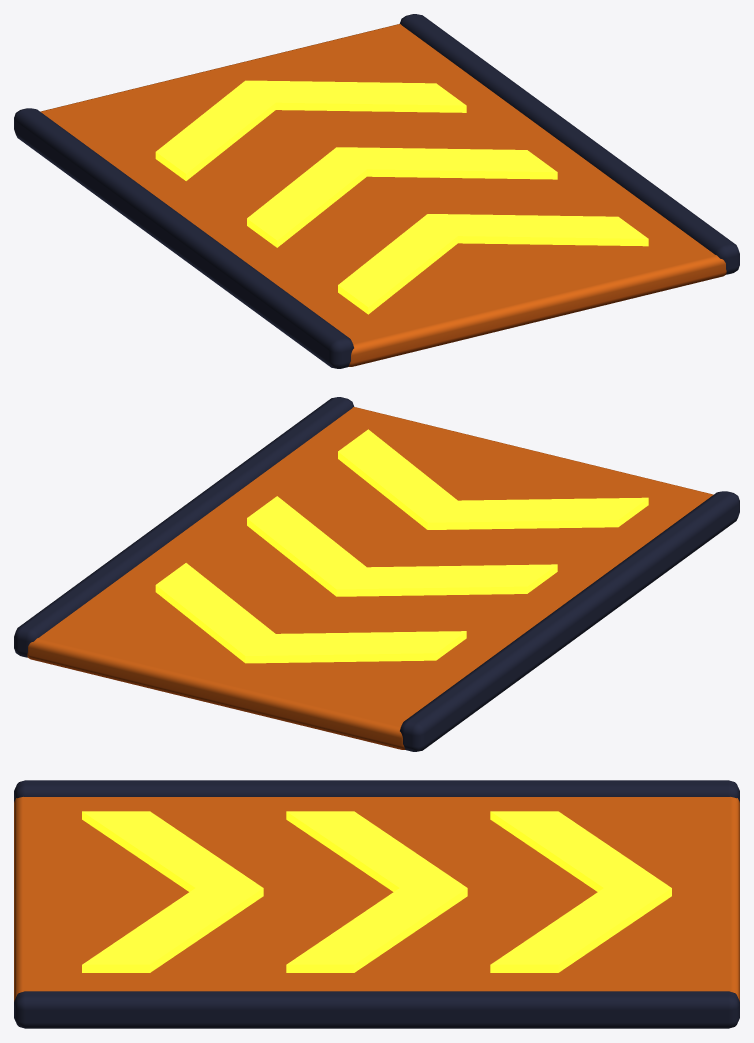
Rendered from PROP_BoostPad.glb.
3 renders of one model, top to bottom at view 1: azimuth 30°, elevation 25°; view 2: azimuth 150°, elevation 25°; view 3: azimuth 270°, elevation 25°, orthographic. The views are drawn at different scales.
Visible parts, largest first — view 1: Plate, Chevrons; view 2: Plate, Chevrons; view 3: Plate, Chevrons.
Boxes of the visible parts, box(x1,y1,x2,y2) form: Plate: box(14, 14, 739, 368); Chevrons: box(155, 80, 648, 314); Plate: box(14, 397, 739, 751); Chevrons: box(155, 429, 648, 663); Plate: box(14, 780, 739, 1028); Chevrons: box(82, 811, 671, 972).
Size of the model in its own units: 2.34 by 0.16 by 3.2.
